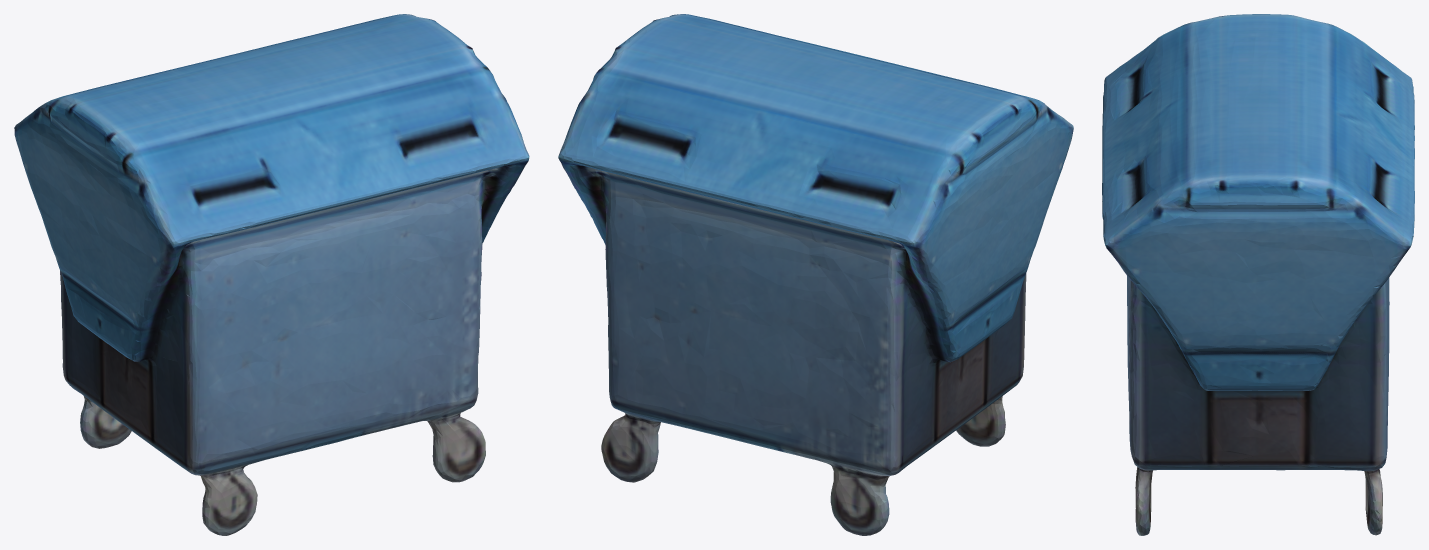
3 views of the same model, side by side, from view 1: azimuth 30°, elevation 25°; view 2: azimuth 150°, elevation 25°; view 3: azimuth 270°, elevation 25° (orthographic). The views are drawn at different scales.
Parts seen in each view (by area): view 1: Mesh_0.003; view 2: Mesh_0.003; view 3: Mesh_0.003.
Part boxes in pixels (x1=…): Mesh_0.003: x1=14, y1=14, x2=529, y2=535; Mesh_0.003: x1=558, y1=14, x2=1073, y2=535; Mesh_0.003: x1=1102, y1=14, x2=1414, y2=535.
Bounding box in the file's own units: 5.58 × 5.63 × 4.22.
Materials: 1 (1 with a texture image).
